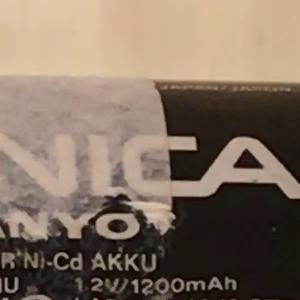keyword: (8, 243, 78, 277)
